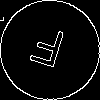F: (25, 25, 68, 77)
